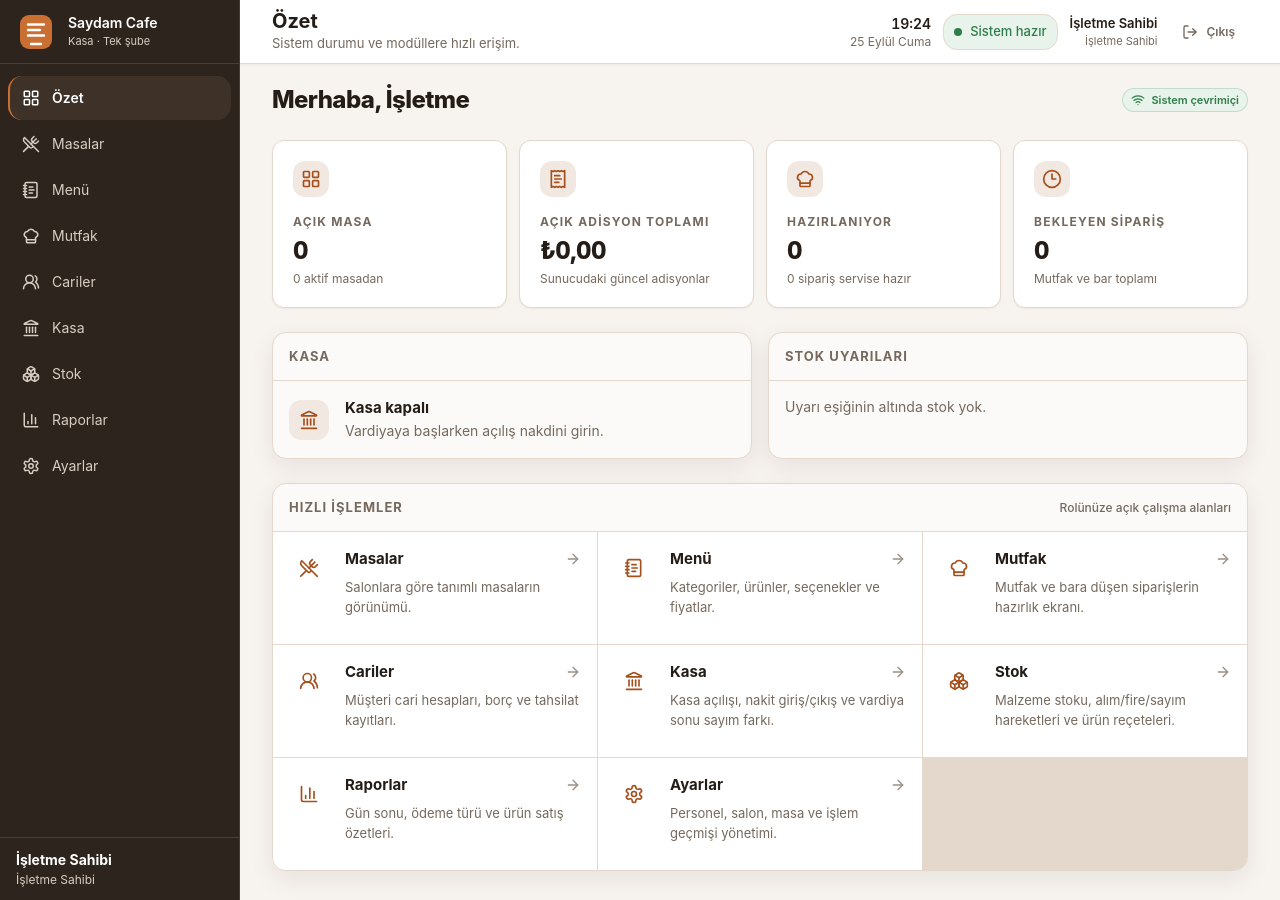
it: Uygulama kabuğu › gezinme bağlantısına tıklandığında ilgili modül açılır
Click the link "Masalar" at {"x": 63, "y": 144}, box 22,135 -> 104,153
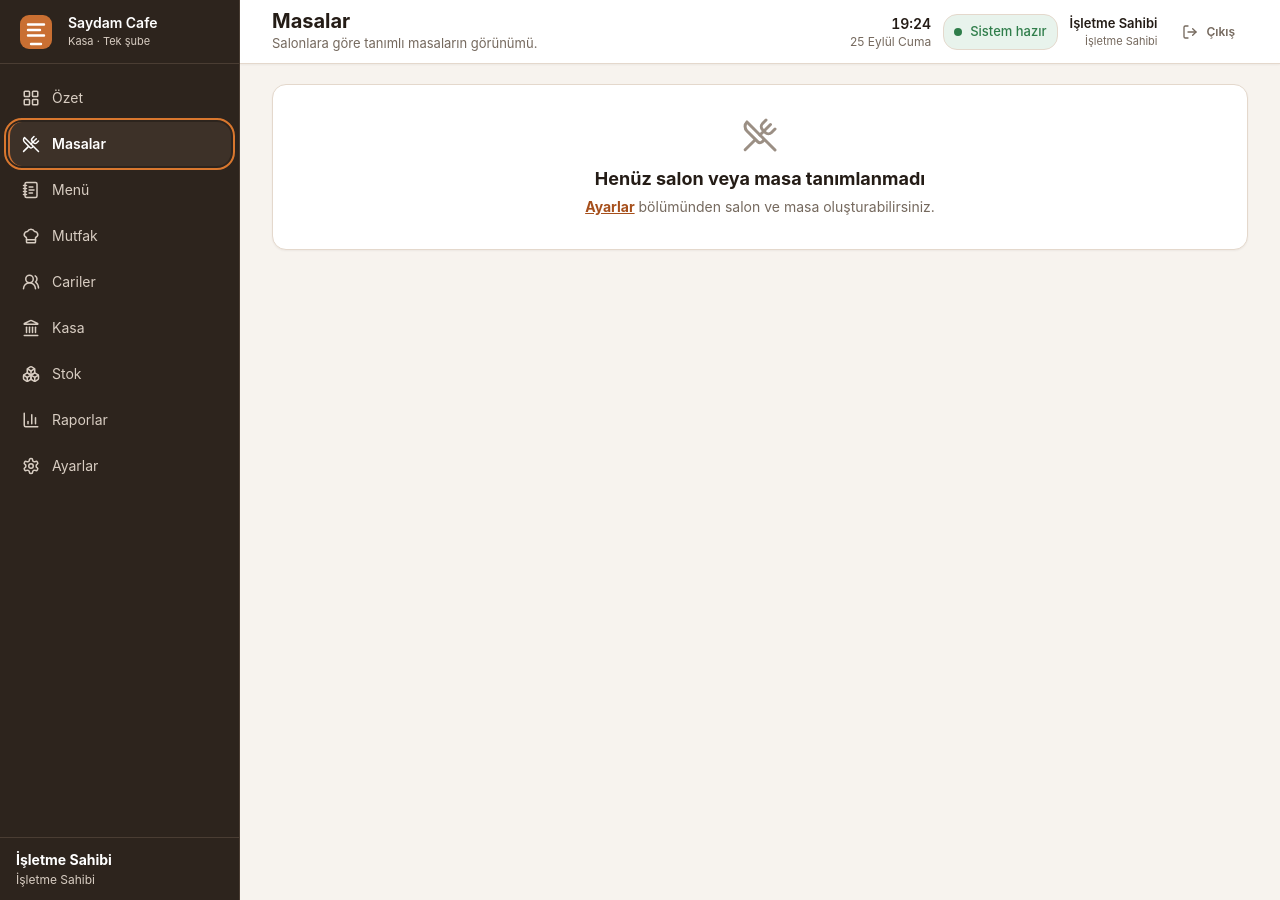
Now the heading "Masalar" is shown, box 272,9 -> 350,33
Now the heading "Henüz salon veya masa tanımlanmadı" is shown, box 595,168 -> 925,189
Click the link "Raporlar" at {"x": 65, "y": 420}, box 22,411 -> 108,429
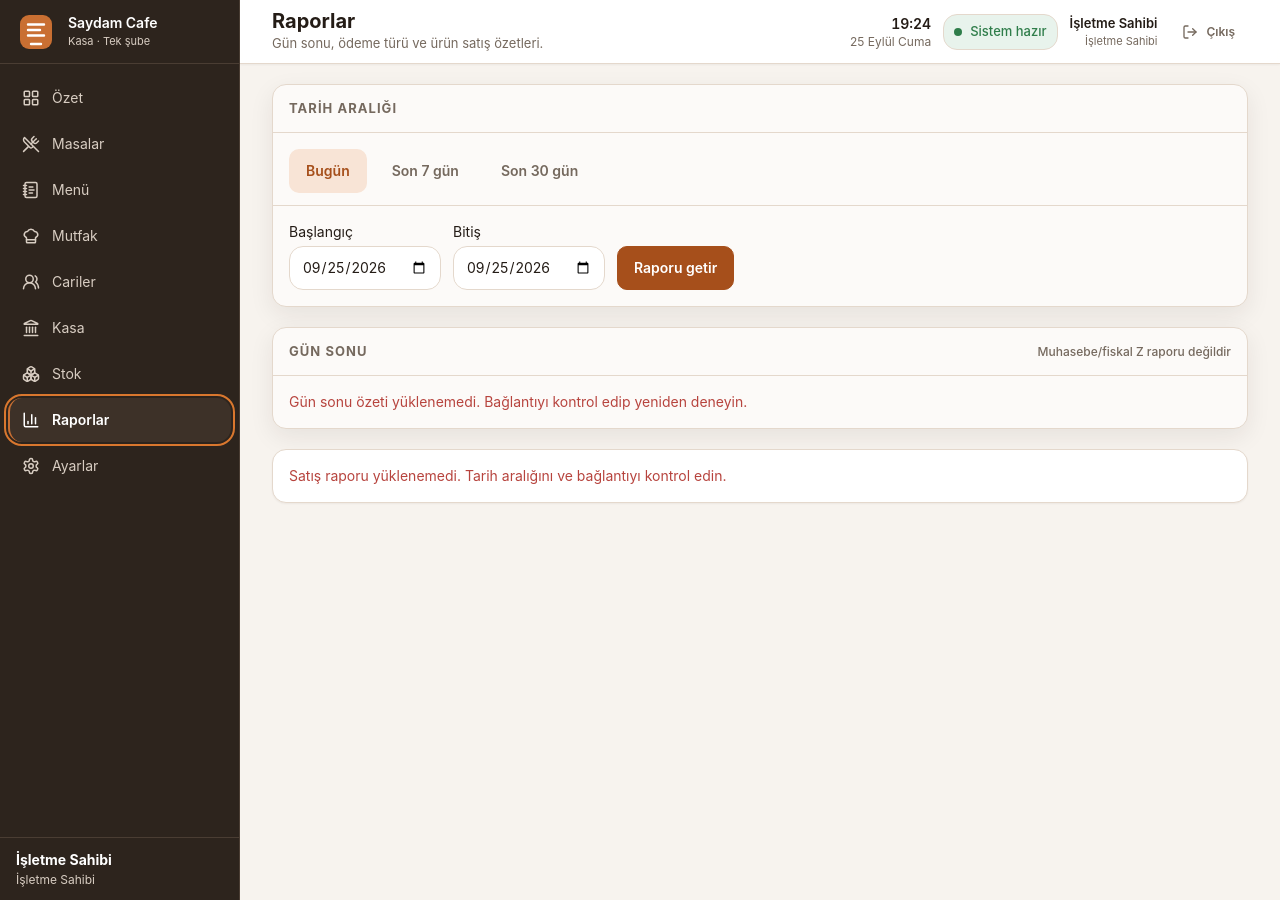
Now the heading "Raporlar" is shown, box 272,9 -> 355,33
Now the heading "Tarih aralığı" is shown, box 289,99 -> 397,118
